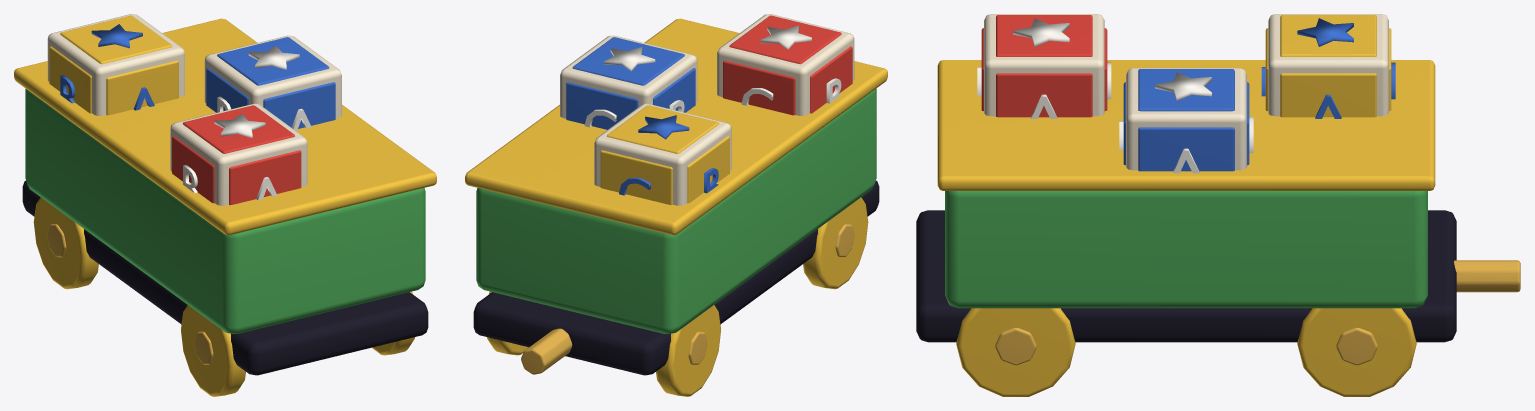
The model's file is toy_train_car_a.glb.
3 renders of one model, left to right at view 1: azimuth 30°, elevation 25°; view 2: azimuth 150°, elevation 25°; view 3: azimuth 270°, elevation 25°, orthographic. The views are drawn at different scales.
Visible parts, largest first — view 1: toy_train_car_a; view 2: toy_train_car_a; view 3: toy_train_car_a.
Boxes of the visible parts, box(x1,y1,x2,y2) form: toy_train_car_a: box(14, 14, 436, 396); toy_train_car_a: box(465, 14, 887, 396); toy_train_car_a: box(916, 14, 1520, 396).
Size of the model in its own units: 2 by 2.24 by 4.25.
